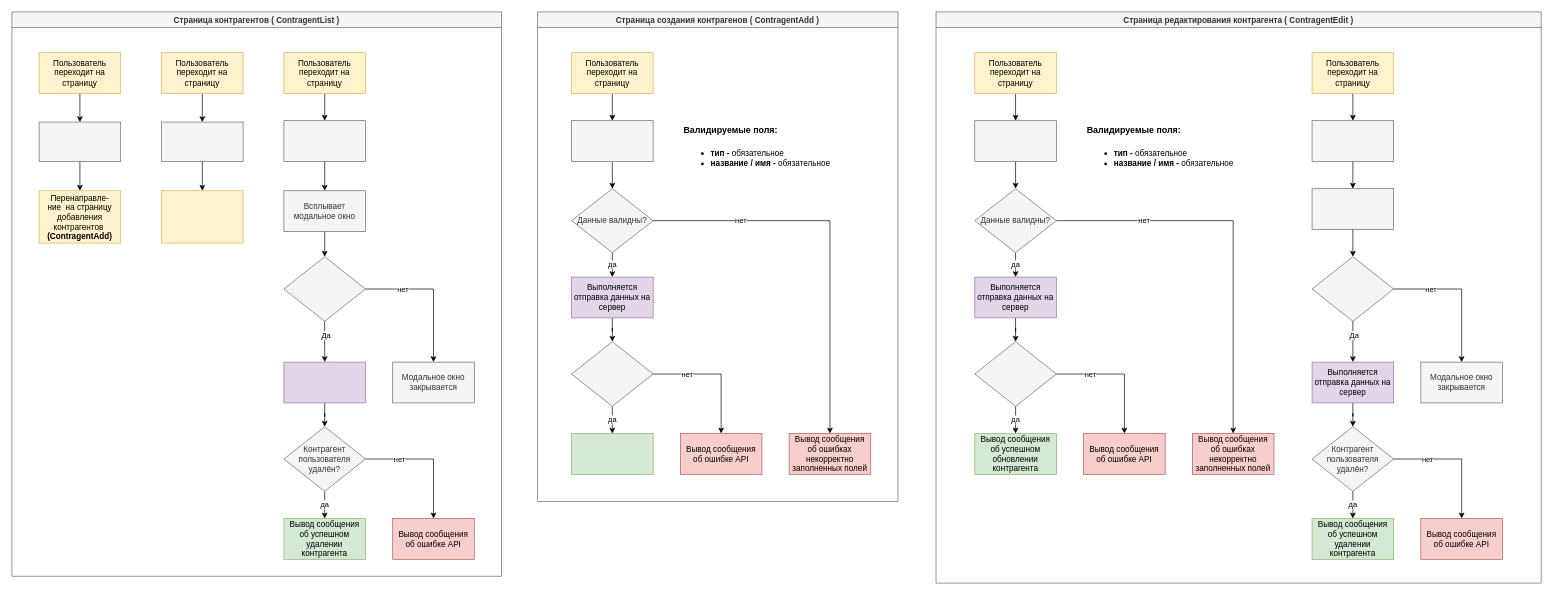
The diagram is 1553 pixels wide and 595 high, and some of its shapes have lost their labels. Here are the shapes that lost their labels. From the top down, the centre of each, then its label:
(x=79, y=141): Клик по кнопке "Добавить"
(x=202, y=141): Клик по иконке "Карандаш" определённого проекта
(x=324, y=141): Клик по иконке "Корзина"
(x=612, y=141): Заполнение данных и отправка формы
(x=1015, y=141): Изменение данных и отправка формы
(x=1352, y=141): Пользователь нажимает на кнопку "Ещё" и выбирает удаление
(x=202, y=216): Перенаправле-ние на страницу редактирования контрагентов (ContragentEdit)
(x=1352, y=209): Всплывает модальное окно с подтверждением
(x=324, y=288): Пользователь подтверждает удаление?
(x=1352, y=288): Пользователь подтвердил удаление?
(x=324, y=382): Выполняется отправка данных на сервере
(x=612, y=373): Контрагент создан?
(x=1015, y=373): Данные пользователя обновлены?
(x=612, y=453): Вывод сообщения об успешном создании контрагента
